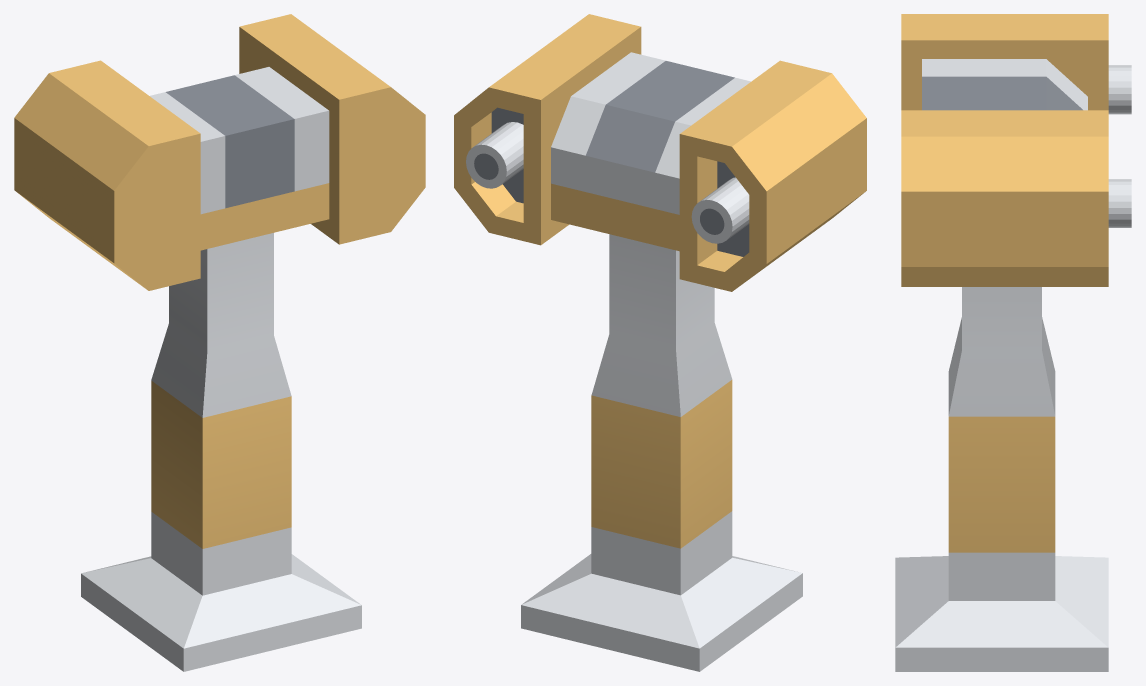
Rendered from turret_1.fbx.
3 renders of one model, left to right at view 1: azimuth 30°, elevation 25°; view 2: azimuth 150°, elevation 25°; view 3: azimuth 270°, elevation 25°, orthographic. The views are drawn at different scales.
Visible parts, largest first — view 1: turret_G1_head, turret_G1_base; view 2: turret_G1_head, turret_G1_base; view 3: turret_G1_head, turret_G1_base.
Part boxes in pixels (bbox=[...]): turret_G1_head: bbox=[14, 14, 425, 290]; turret_G1_base: bbox=[81, 233, 361, 671]; turret_G1_head: bbox=[454, 14, 866, 291]; turret_G1_base: bbox=[521, 234, 802, 671]; turret_G1_head: bbox=[901, 14, 1131, 286]; turret_G1_base: bbox=[895, 287, 1108, 671].
Size of the model in its own units: 0.6996 by 1.14 by 0.443.
